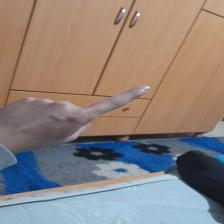one: (4, 85, 163, 153)
